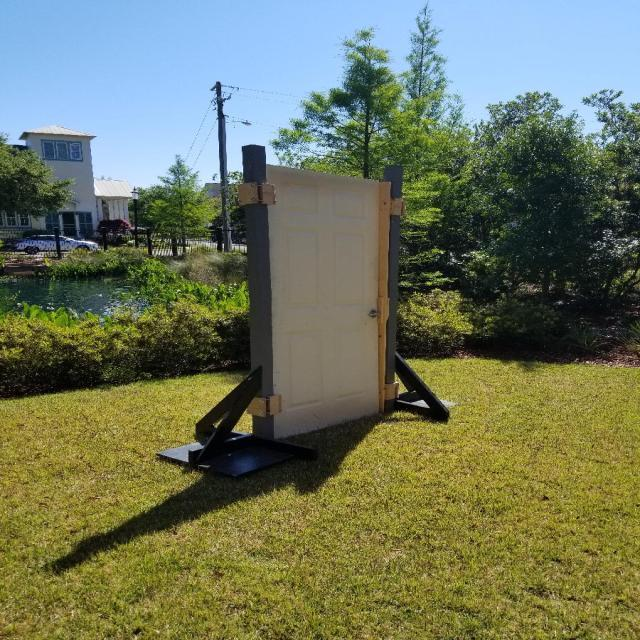door: (261, 160, 384, 442), (365, 308, 382, 322)
